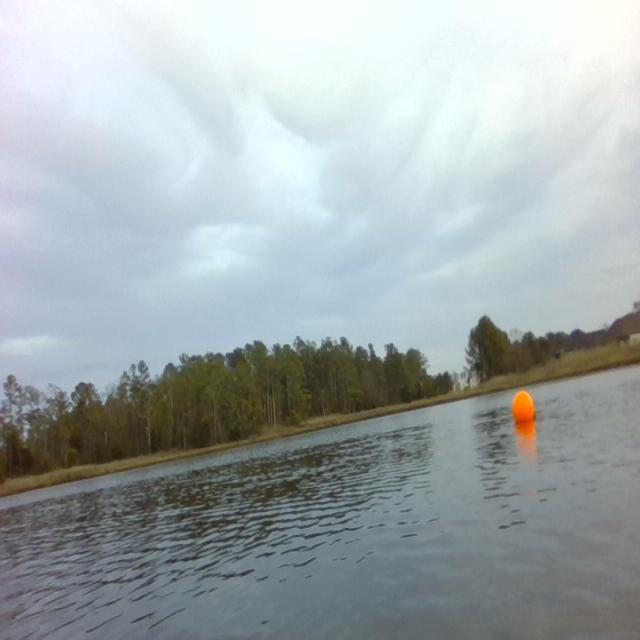Buoy: (512, 389, 536, 426)
